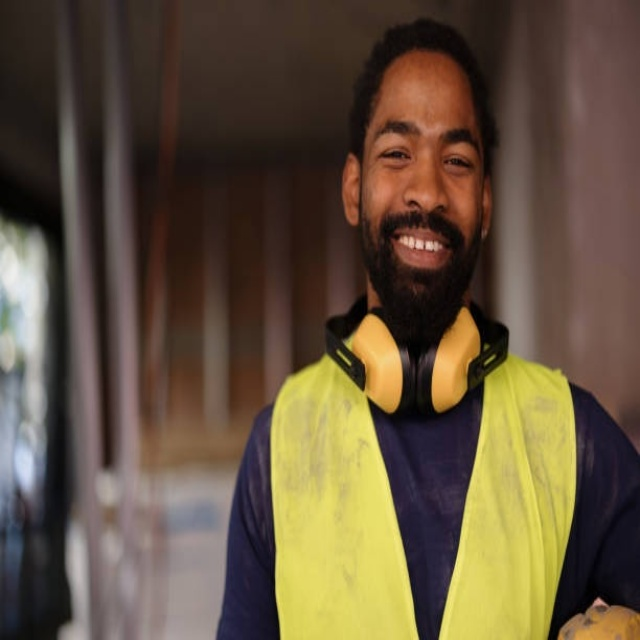Sin_gafas: (371, 110, 478, 185)
Sin_mascara: (388, 213, 453, 290)
